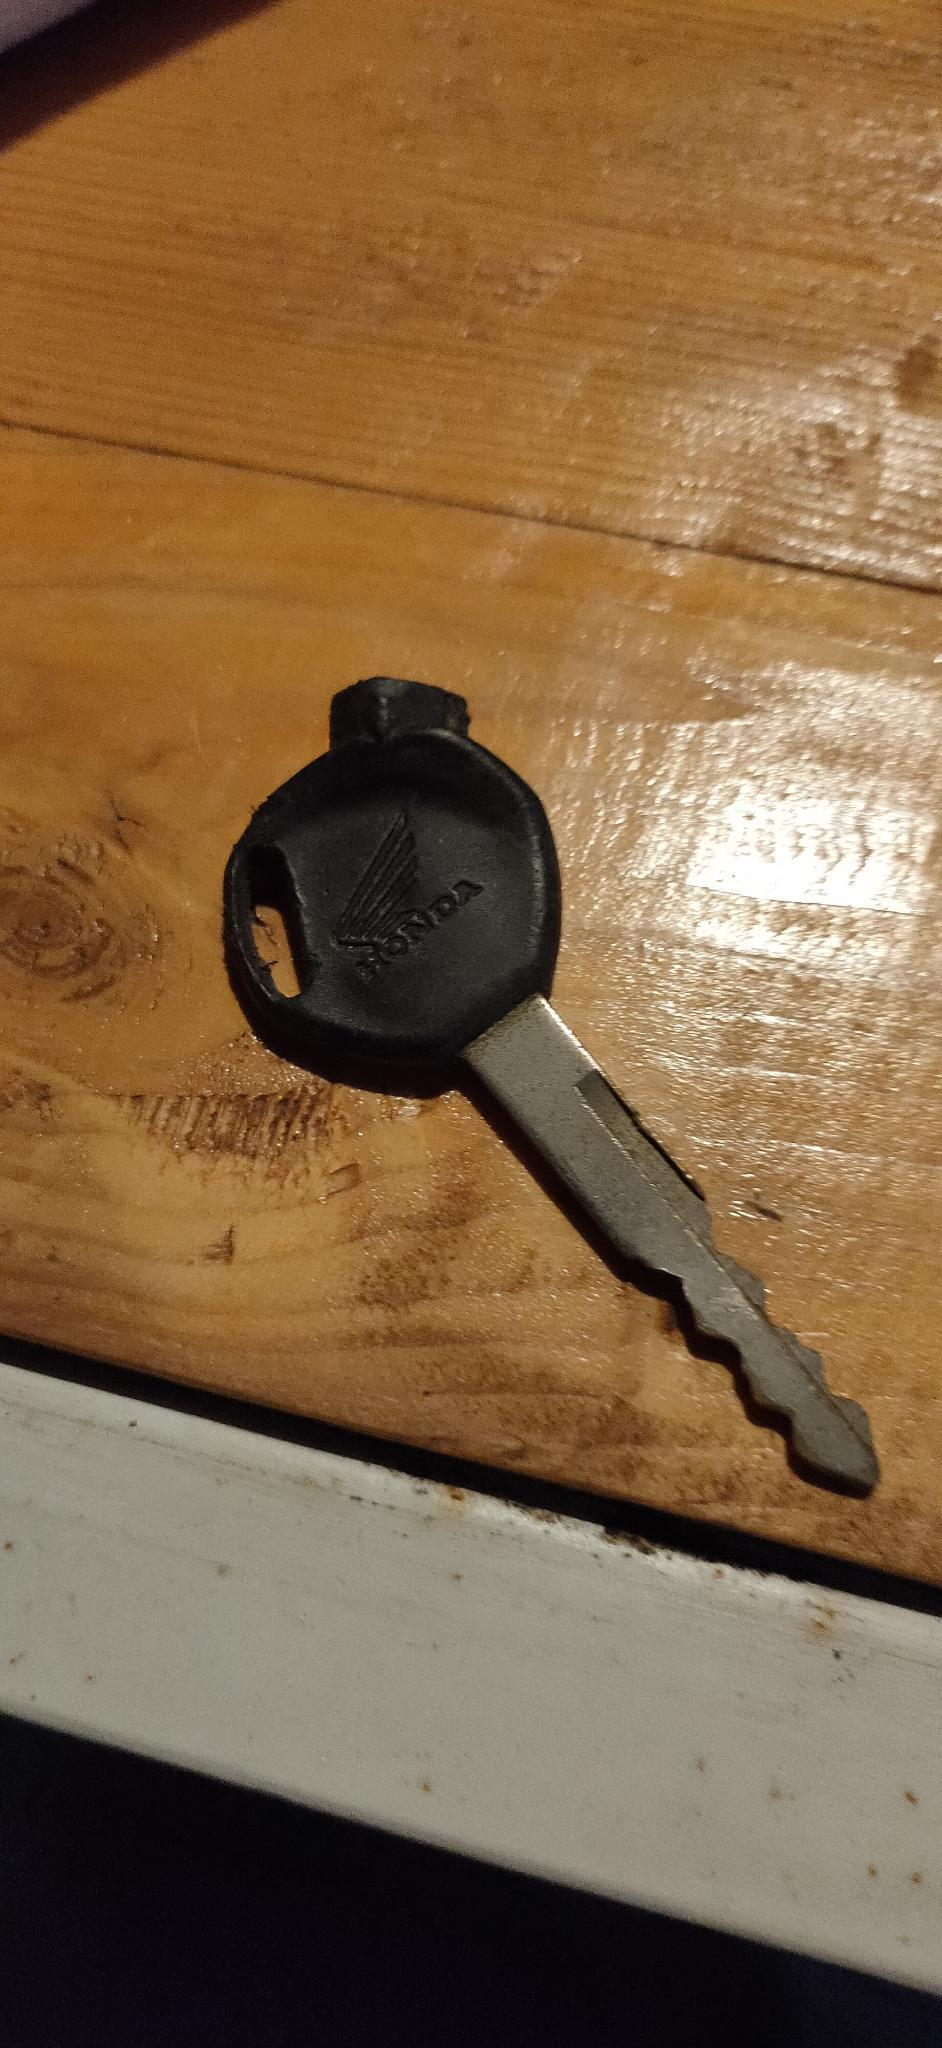keys: (203, 656, 898, 1510)
